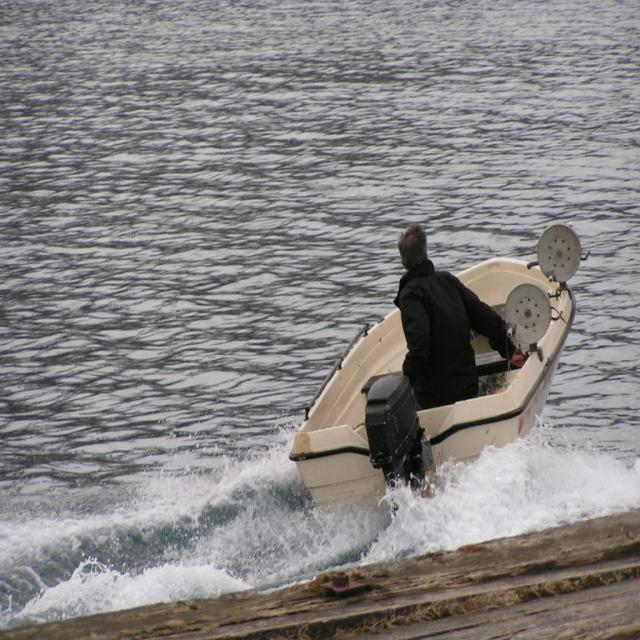Boat: (285, 243, 564, 514)
